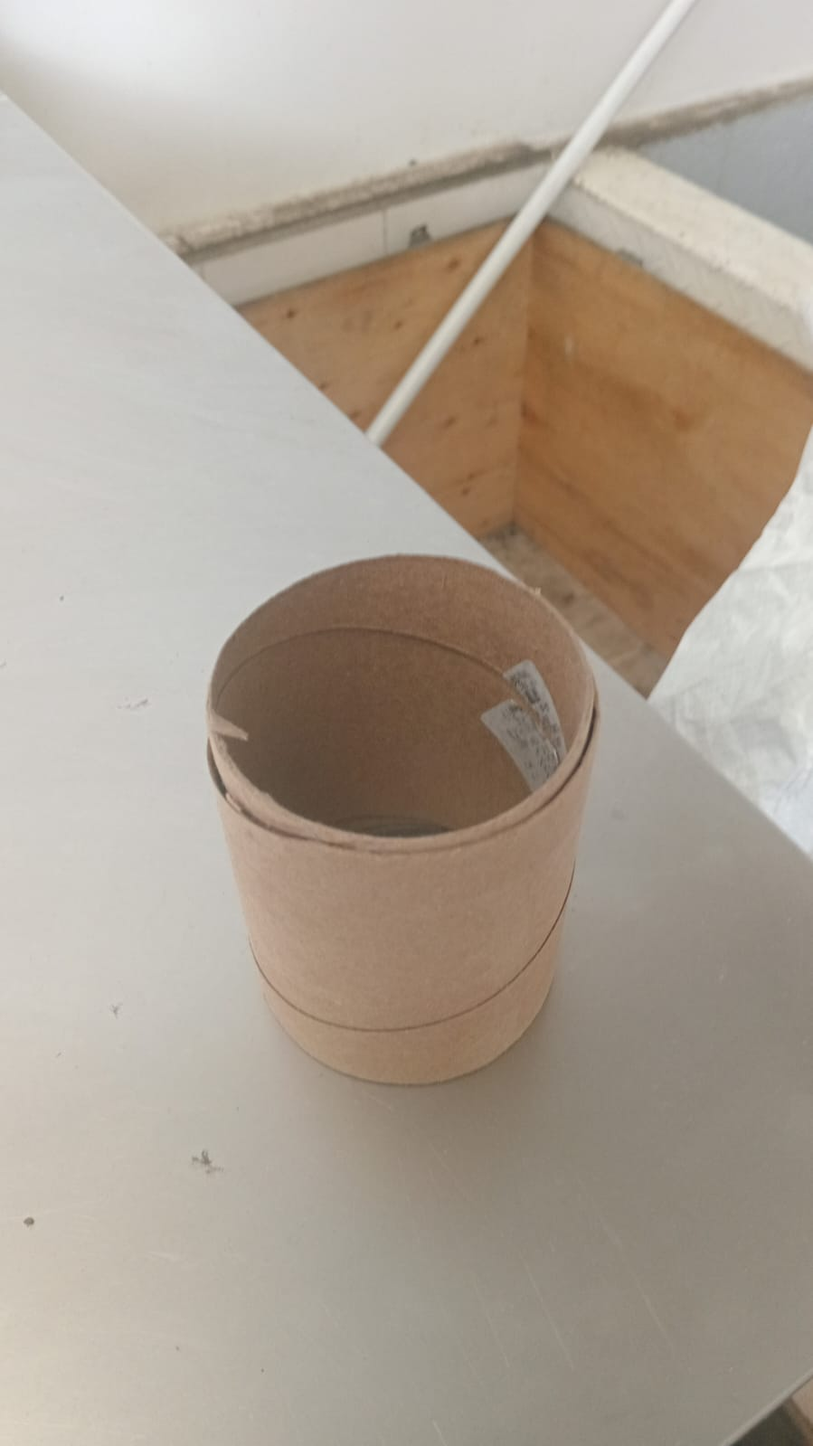Carton: (202, 555, 597, 1093)
